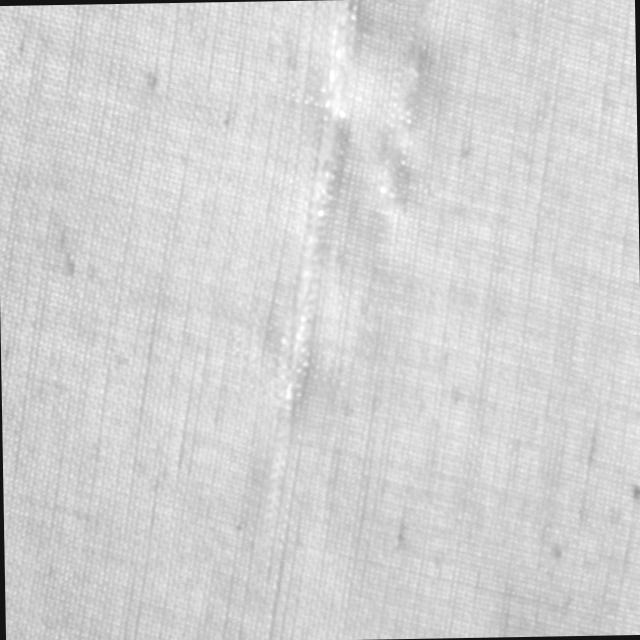thread error: (258, 0, 374, 427), (360, 40, 435, 252)
